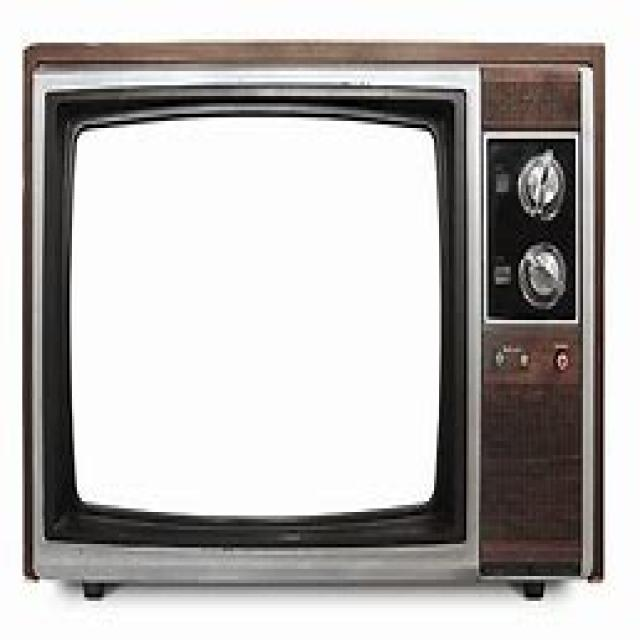tv: (20, 39, 605, 597)
